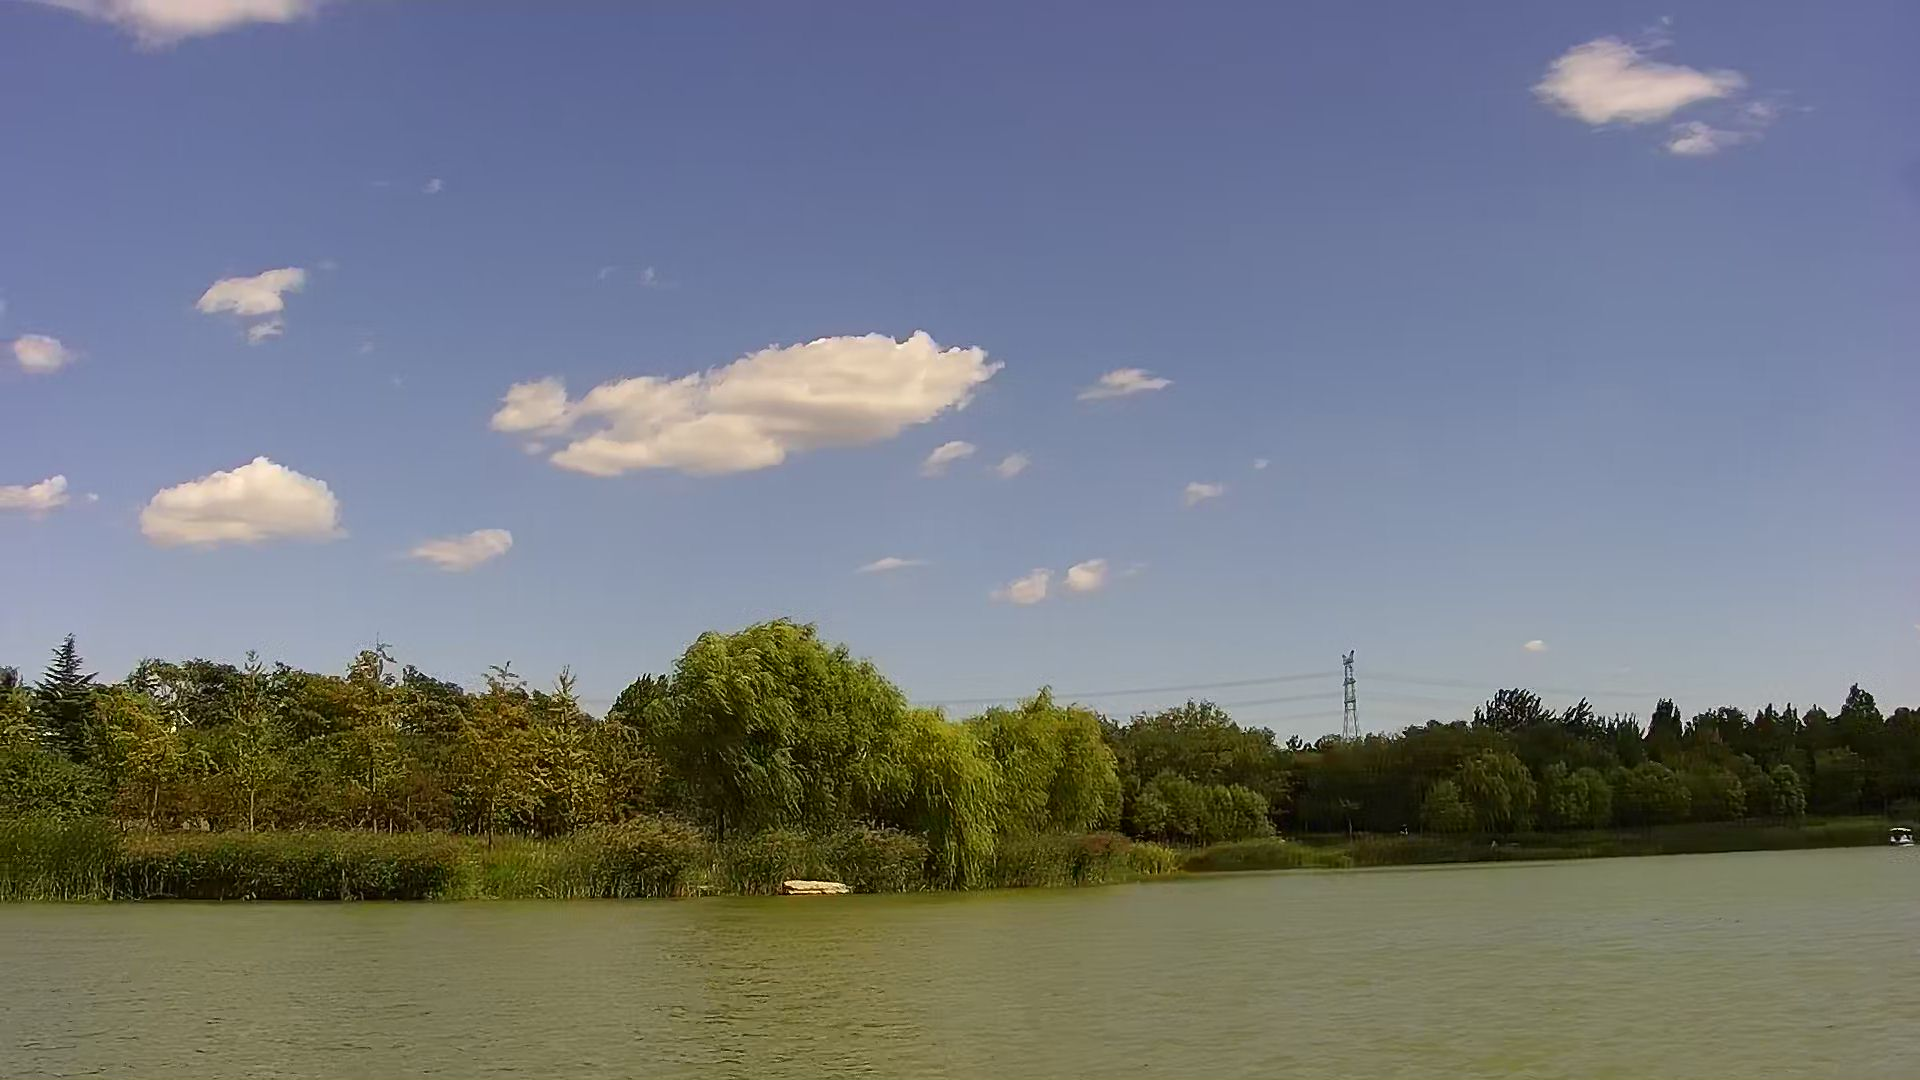boat: (1884, 823, 1915, 845)
